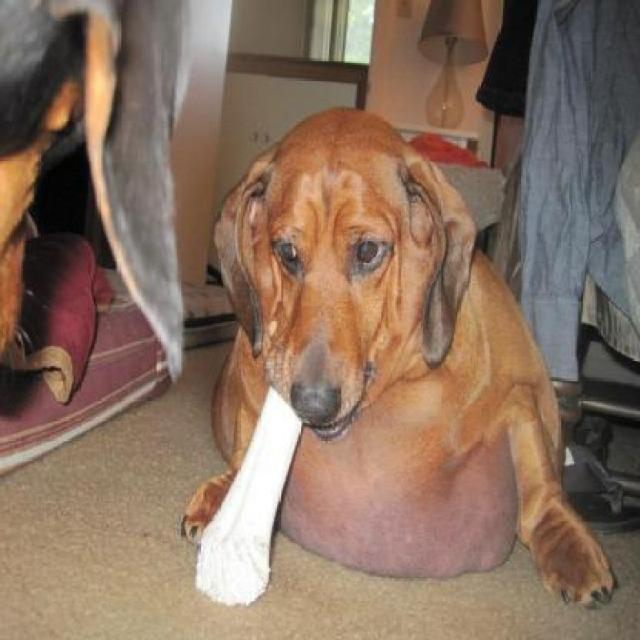Dog: (180, 104, 623, 616)
